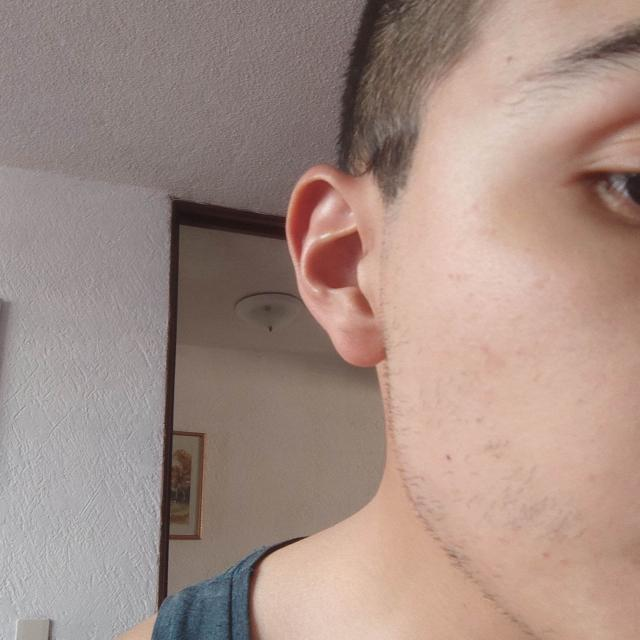ear: (286, 166, 385, 365)
